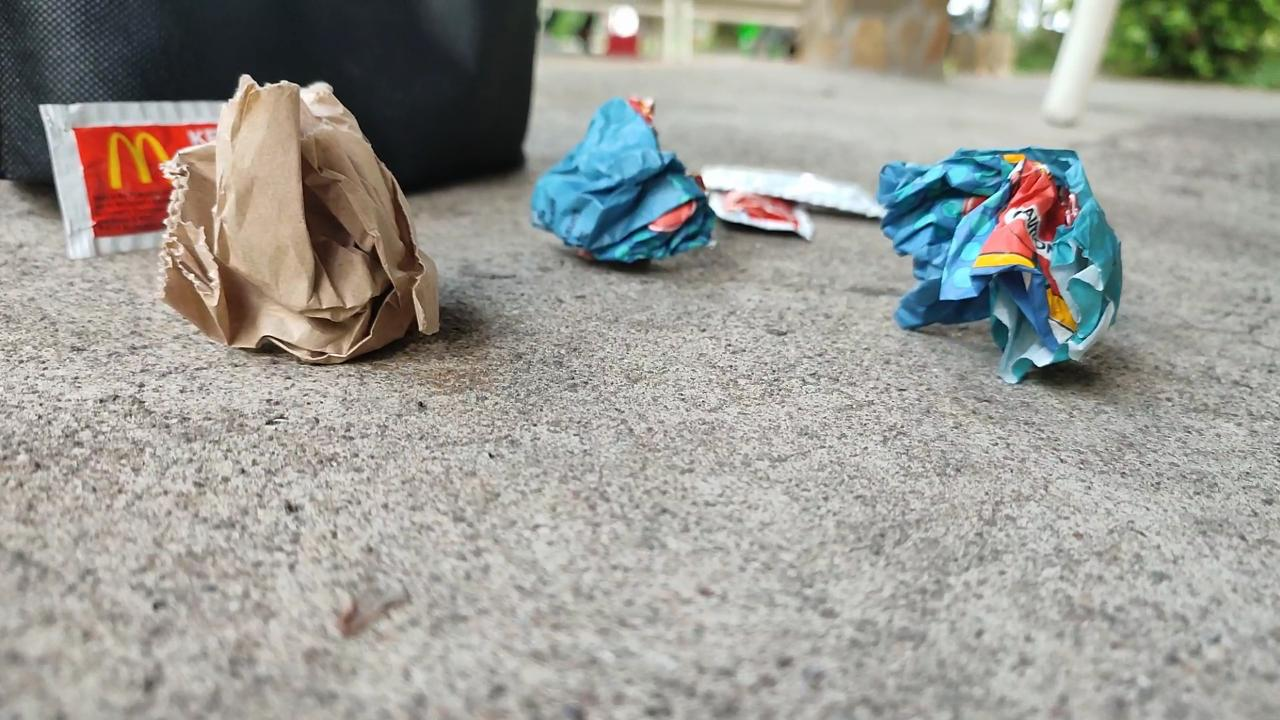Paper: (142, 55, 456, 374), (862, 124, 1135, 395), (521, 89, 726, 282)
